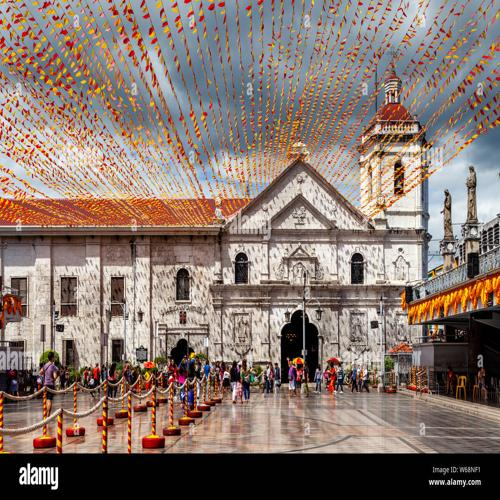Sto. Nino Basilica Church: (219, 43, 438, 392)
